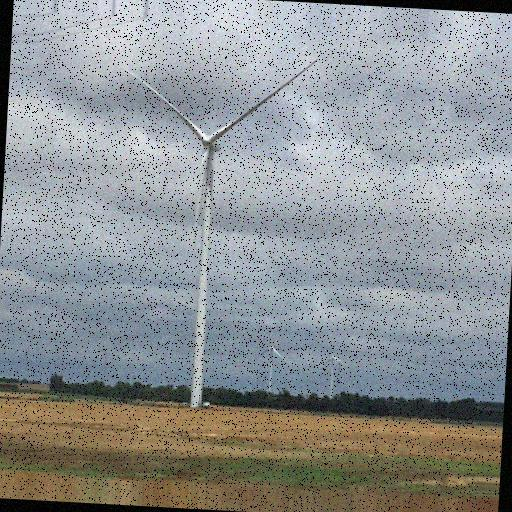wind turbine: (122, 57, 321, 405)
